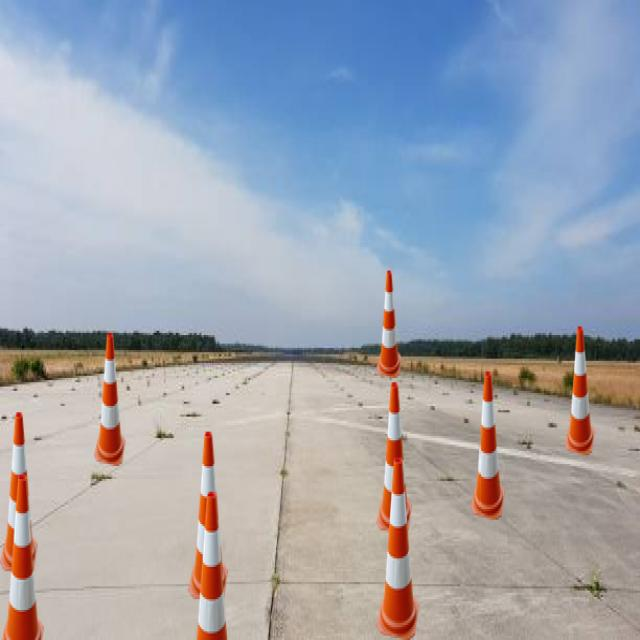large_orange_cone: (376, 457, 419, 640), (0, 474, 44, 640), (188, 432, 228, 604), (188, 492, 234, 640), (0, 412, 38, 576), (376, 382, 412, 535), (471, 372, 505, 520), (94, 333, 126, 466), (565, 326, 595, 456), (376, 271, 402, 378)
